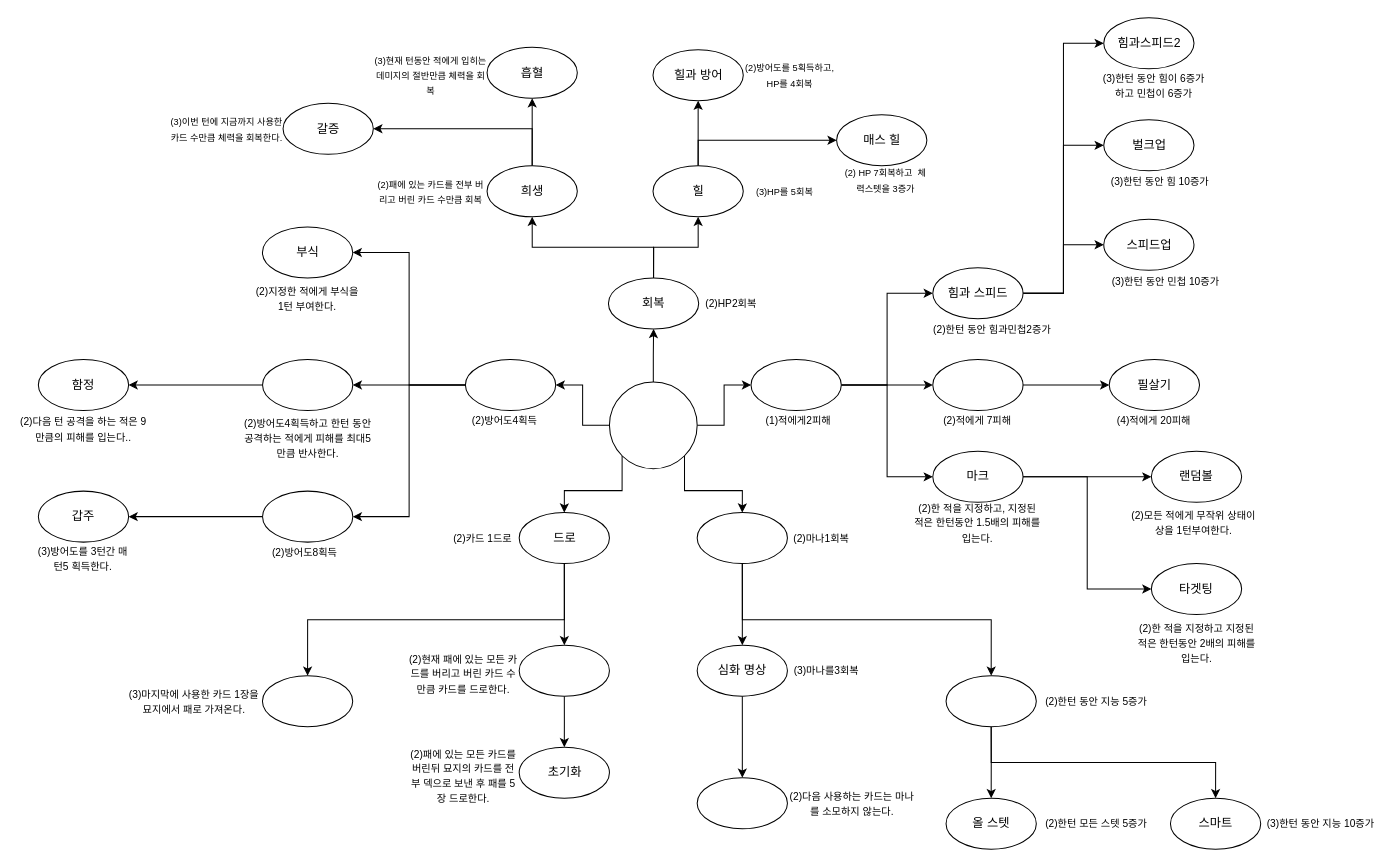
This 1397x867 diagram has some shape labels left out. Each missing label, with the centre of its shape:
"No Skill" goes at pixel 652 425.
"가시방패" goes at pixel 307 385.
"명상" goes at pixel 741 538.
"무료" goes at pixel 741 803.
"방어" goes at pixel 510 385.
"방패" goes at pixel 307 516.
"스메시" goes at pixel 977 385.
"재사용" goes at pixel 307 701.
"지능 증가" goes at pixel 990 701.
"타격" goes at pixel 795 385.
"패 버리기" goes at pixel 563 670.
